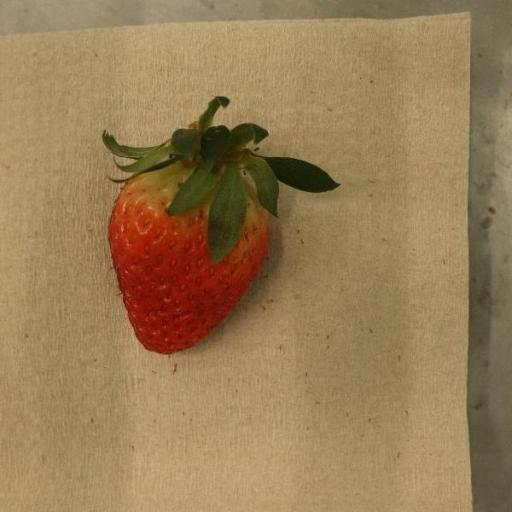Strawberry: (102, 97, 340, 355)
